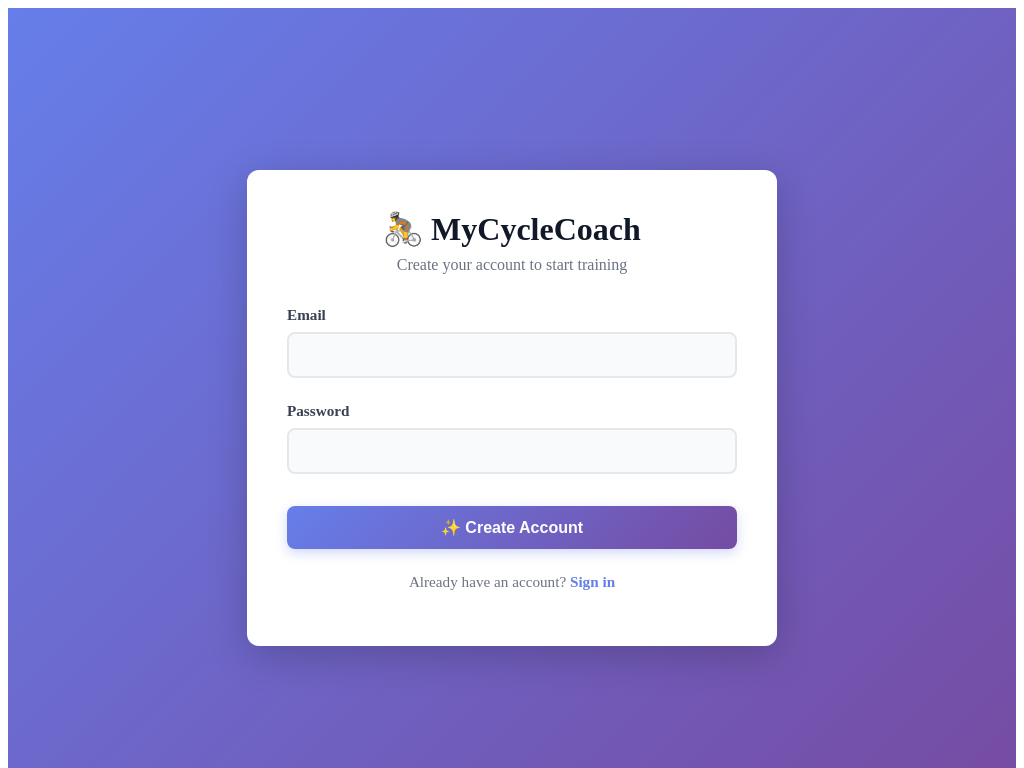
Scenario: RegisterPage Component › shows validation error when password is empty
Type "test@example.com" into the field. click: (512, 355)
box: 287,332 -> 737,378
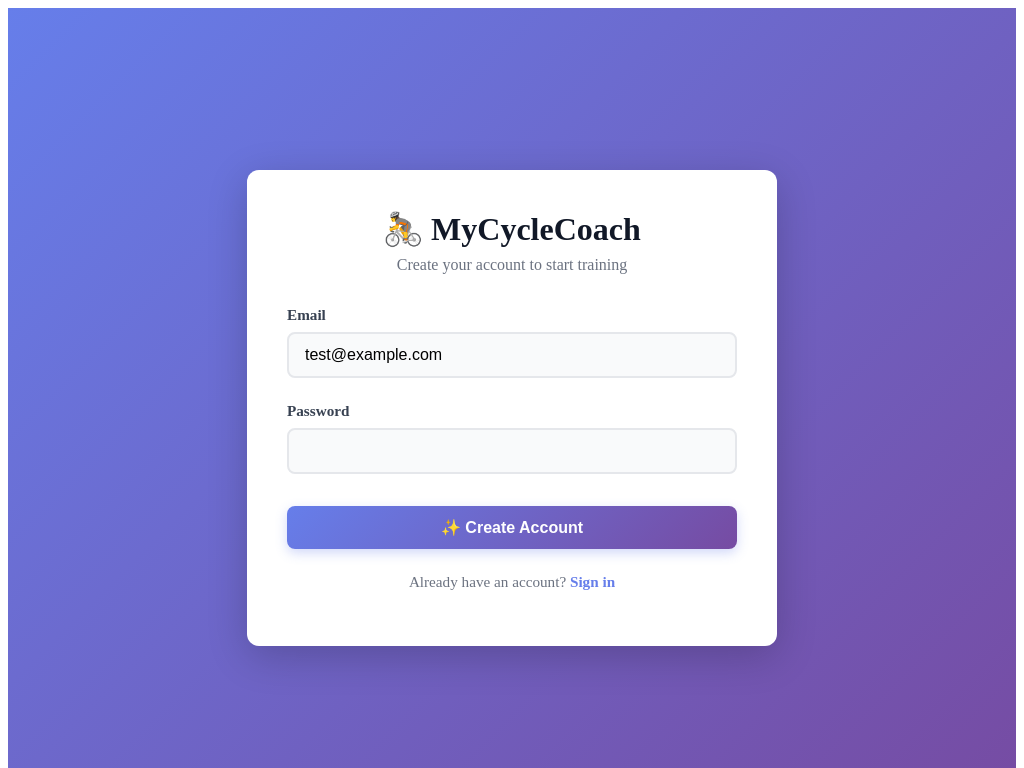
Click the button "✨ Create Account". click: (512, 527)
box: 287,506 -> 737,549
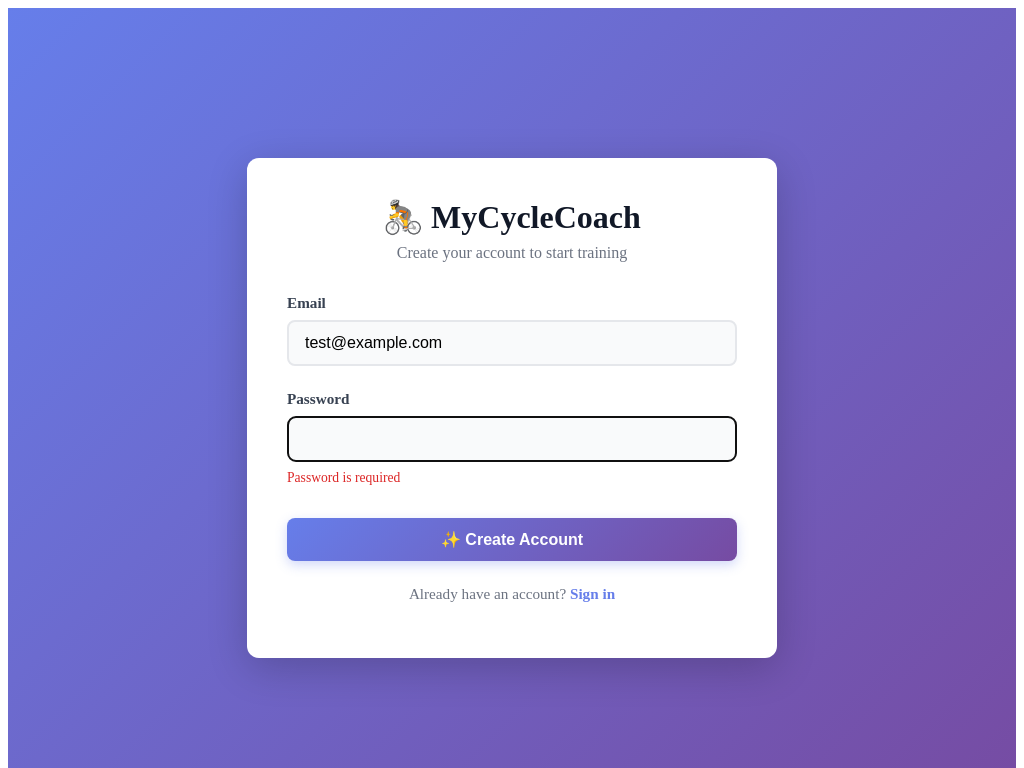
Check: the text "Password is required" is shown, box 287,470 -> 400,485
